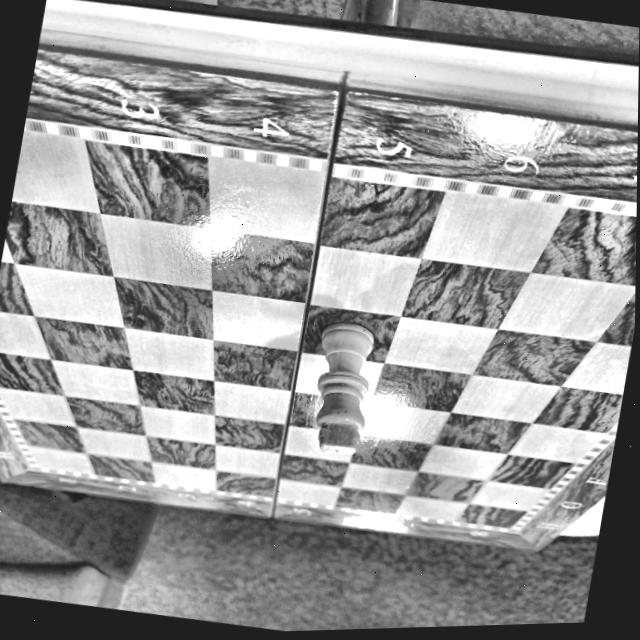white-king: (317, 322, 375, 455)
